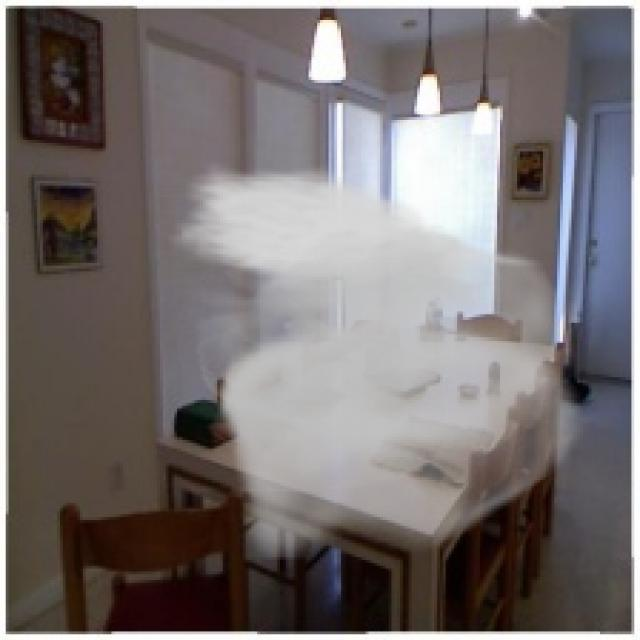Smoke: (168, 163, 594, 560)
